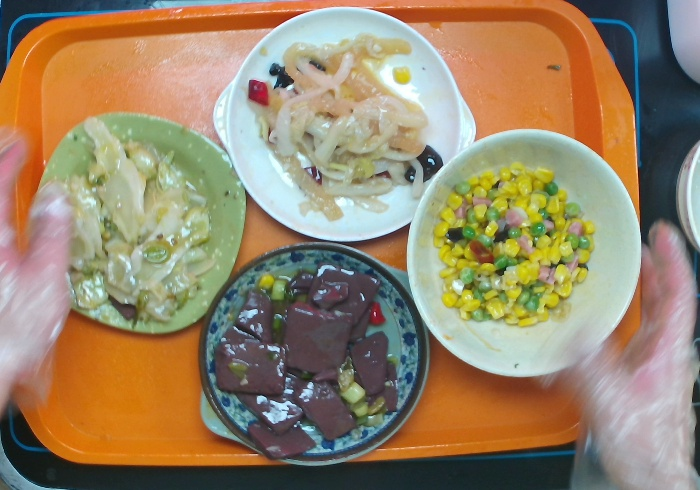NLDX-Bai_Se_Shuang_Er_Die: (211, 8, 477, 244)
NLDX-Bai_Se_Yuan_Wan: (405, 126, 641, 381)
NLDX-Lv_Hua_Fang_Die: (38, 111, 247, 339)
NLDX-Qing_Hua_Shuang_Er_Die: (193, 240, 431, 470)
